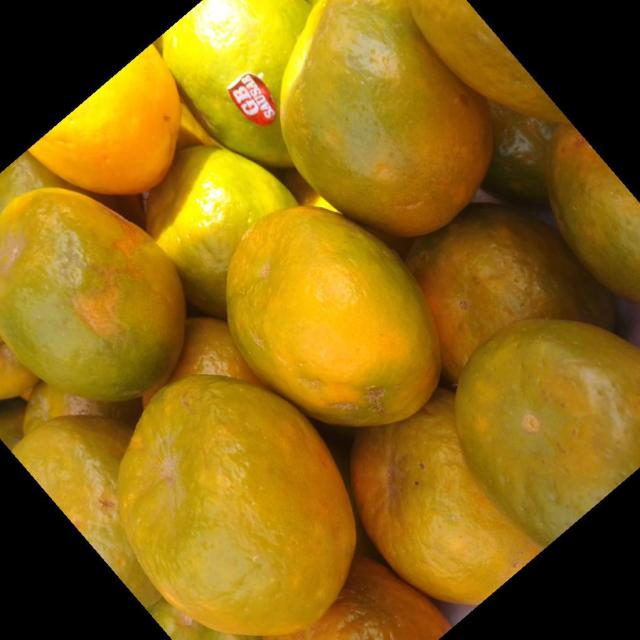fresh orange: (1, 0, 638, 638), (116, 372, 357, 636), (278, 0, 494, 237), (333, 394, 566, 612), (225, 204, 441, 427), (456, 301, 640, 538), (1, 186, 186, 402), (406, 216, 620, 384), (11, 412, 167, 617), (164, 1, 317, 167), (147, 146, 293, 316), (27, 42, 181, 195), (546, 122, 634, 306), (148, 316, 272, 414)
